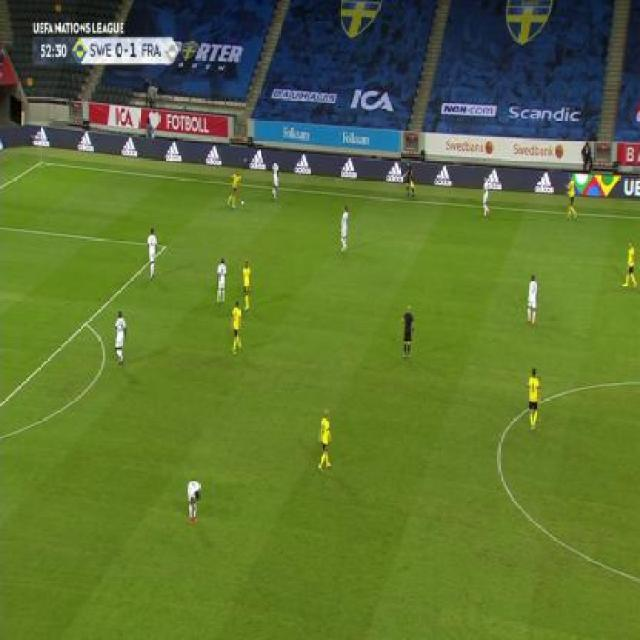ball: (240, 197, 245, 206)
player: (315, 406, 334, 474), (526, 366, 543, 432), (112, 308, 129, 367), (399, 303, 416, 360), (228, 299, 244, 356), (525, 272, 541, 326), (621, 240, 638, 289), (185, 477, 202, 525), (239, 259, 253, 313), (145, 226, 159, 280), (565, 172, 579, 220), (215, 256, 229, 304), (338, 205, 351, 254), (226, 169, 242, 208), (482, 173, 493, 218), (403, 162, 416, 199), (271, 158, 280, 200)
